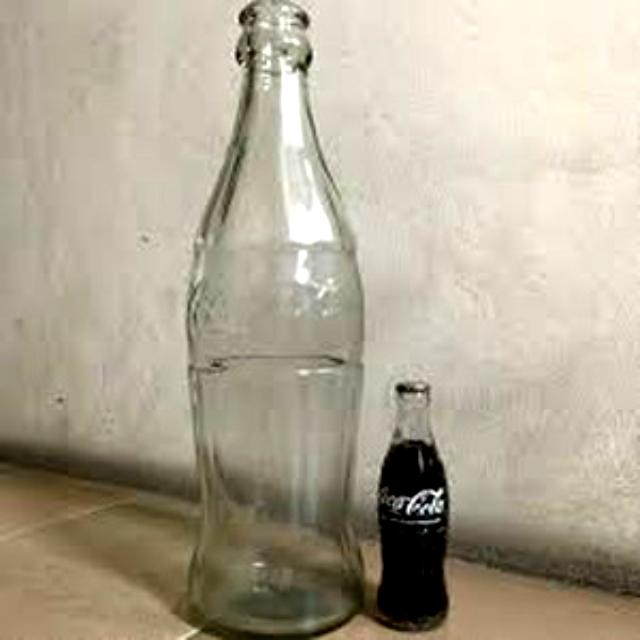Glass: (183, 0, 370, 634), (374, 373, 451, 631)
